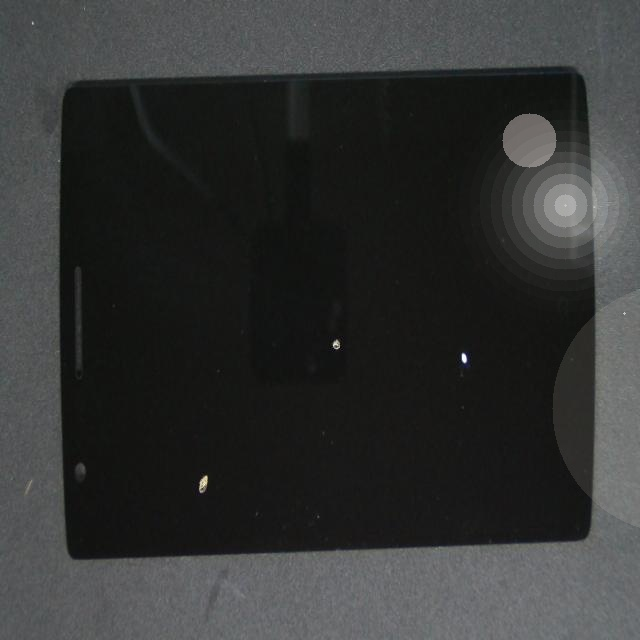stain: (231, 195, 640, 584), (155, 137, 486, 522), (108, 218, 296, 640)
